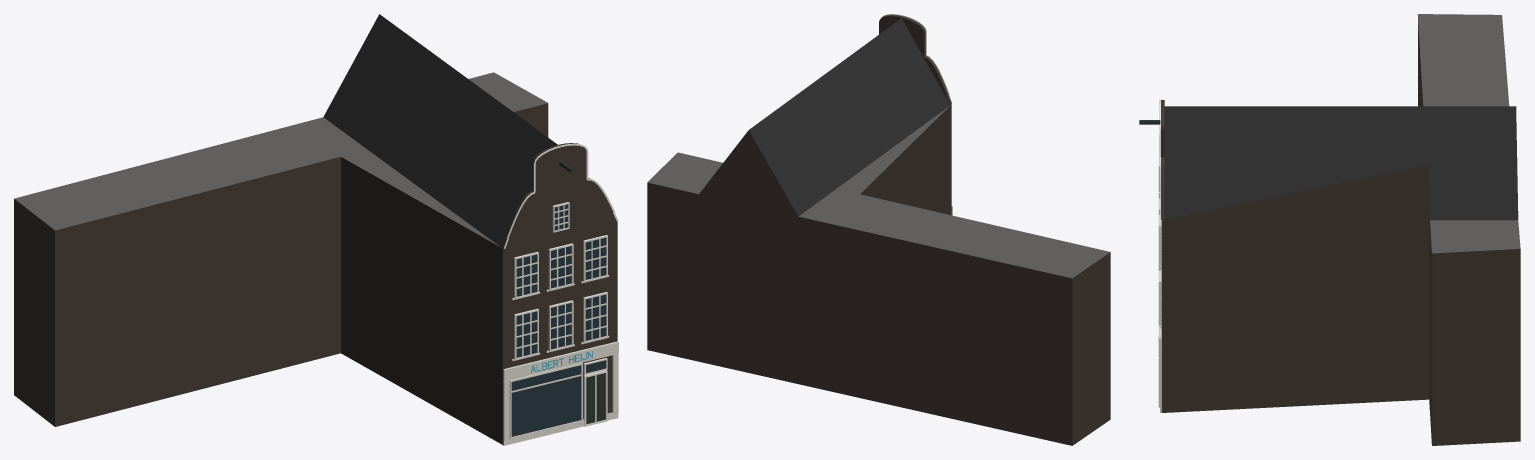
The picture shows the model from 3 angles, left to right: view 1: azimuth 30°, elevation 25°; view 2: azimuth 150°, elevation 25°; view 3: azimuth 270°, elevation 25°; orthographic projection. The views are drawn at different scales.
Parts seen in each view (by area): view 1: spec-0363100012182858; view 2: spec-0363100012182858; view 3: spec-0363100012182858.
Boxes of the visible parts, bbox=[...] form: spec-0363100012182858: bbox=[14, 14, 618, 445]; spec-0363100012182858: bbox=[647, 14, 1110, 445]; spec-0363100012182858: bbox=[1139, 14, 1520, 445].
Size of the model in its own units: 28.13 by 15.38 by 18.93.
